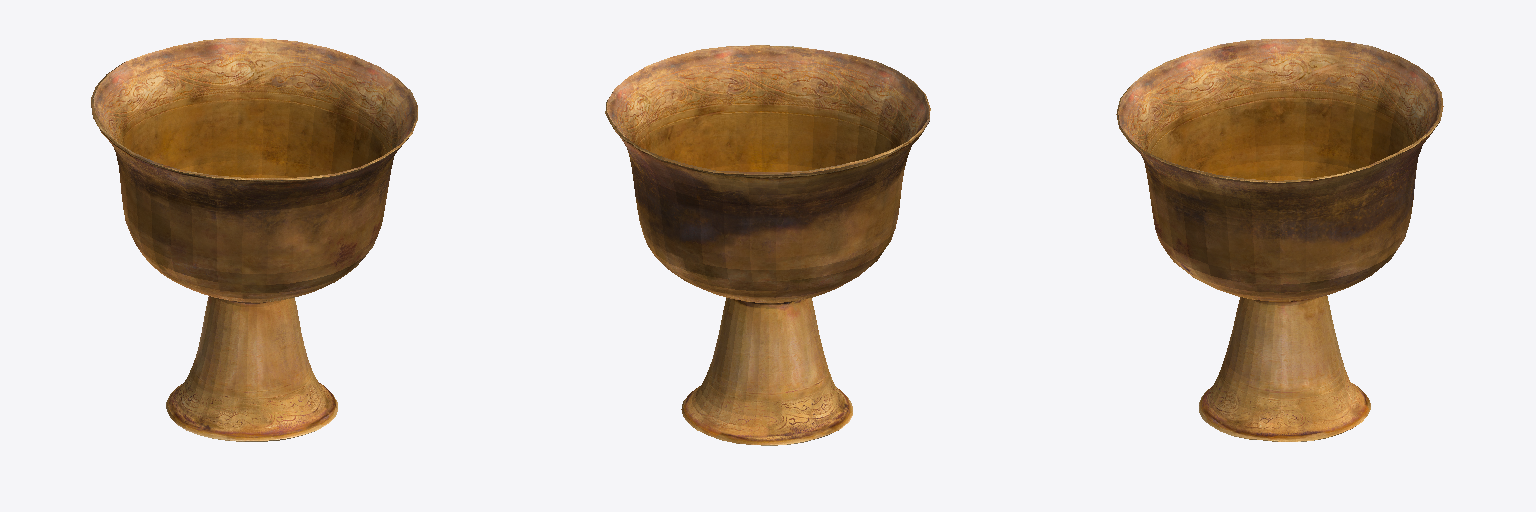
3 renders of one model, left to right at view 1: azimuth 30°, elevation 25°; view 2: azimuth 150°, elevation 25°; view 3: azimuth 270°, elevation 25°, orthographic.
Parts seen in each view (by area): view 1: __________________________________; view 2: __________________________________; view 3: __________________________________.
Part boxes in pixels (x1,y1,x2,y2): __________________________________: (91,38,417,441); __________________________________: (605,45,930,445); __________________________________: (1116,38,1443,441).
Bounding box in the file's own units: 85.61 × 88.11 × 85.41.
Materials: 2 (2 with a texture image).